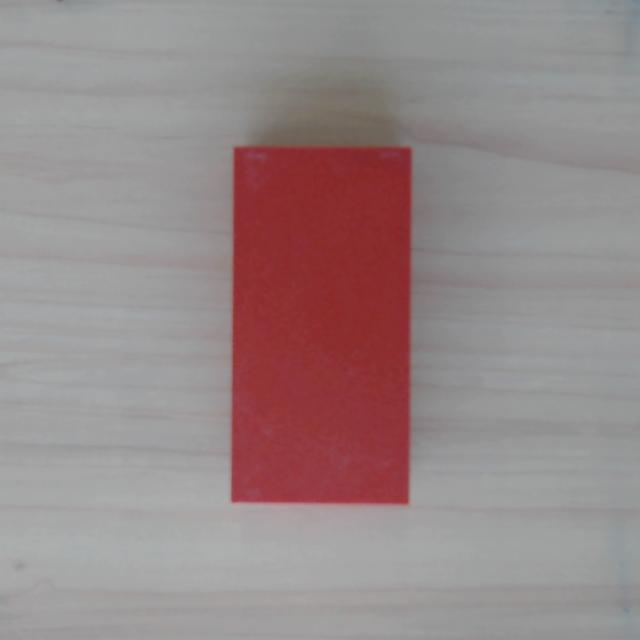Balok-Merah-1005025: (231, 146, 411, 504)
